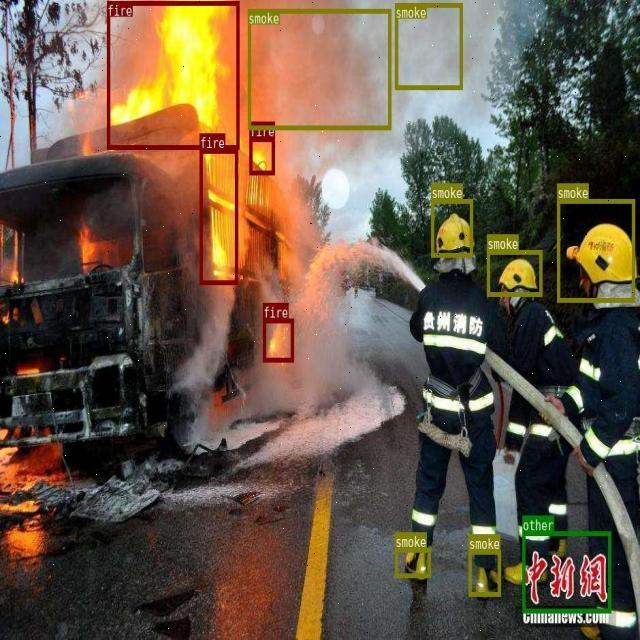fire: (107, 0, 239, 148), (199, 149, 237, 284), (263, 318, 293, 362), (249, 136, 274, 174)
smoke: (247, 8, 390, 129), (557, 199, 634, 301), (395, 2, 462, 89), (486, 250, 542, 296), (431, 198, 472, 257), (468, 549, 500, 595), (395, 547, 430, 577)
